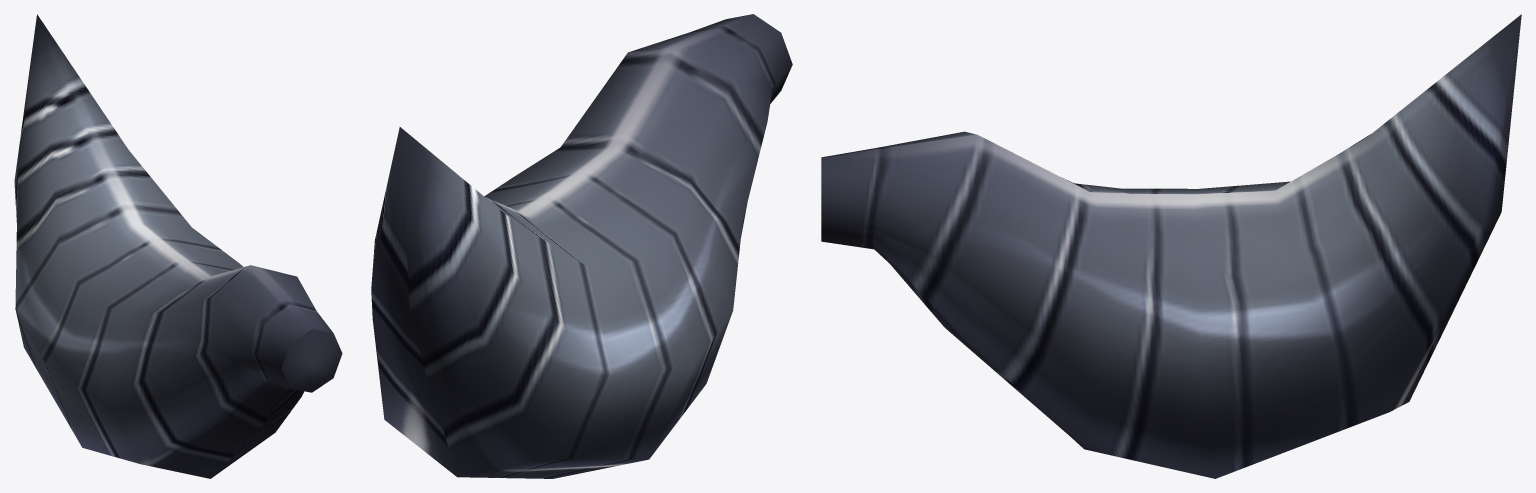
Rendered from WaistBack.fbx.
The picture shows the model from 3 angles, left to right: view 1: azimuth 30°, elevation 25°; view 2: azimuth 150°, elevation 25°; view 3: azimuth 270°, elevation 25°; orthographic projection. The views are drawn at different scales.
Visible parts, largest first — view 1: Slender_Tail_Acc; view 2: Slender_Tail_Acc; view 3: Slender_Tail_Acc.
Boxes of the visible parts, left/top/right/bottom form: Slender_Tail_Acc: left=14, top=14, right=342, bottom=478; Slender_Tail_Acc: left=371, top=14, right=792, bottom=478; Slender_Tail_Acc: left=821, top=14, right=1521, bottom=478.
Bounding box in the file's own units: 0.7011 × 1.15 × 1.59.
Materials: 1 (1 with a texture image).
